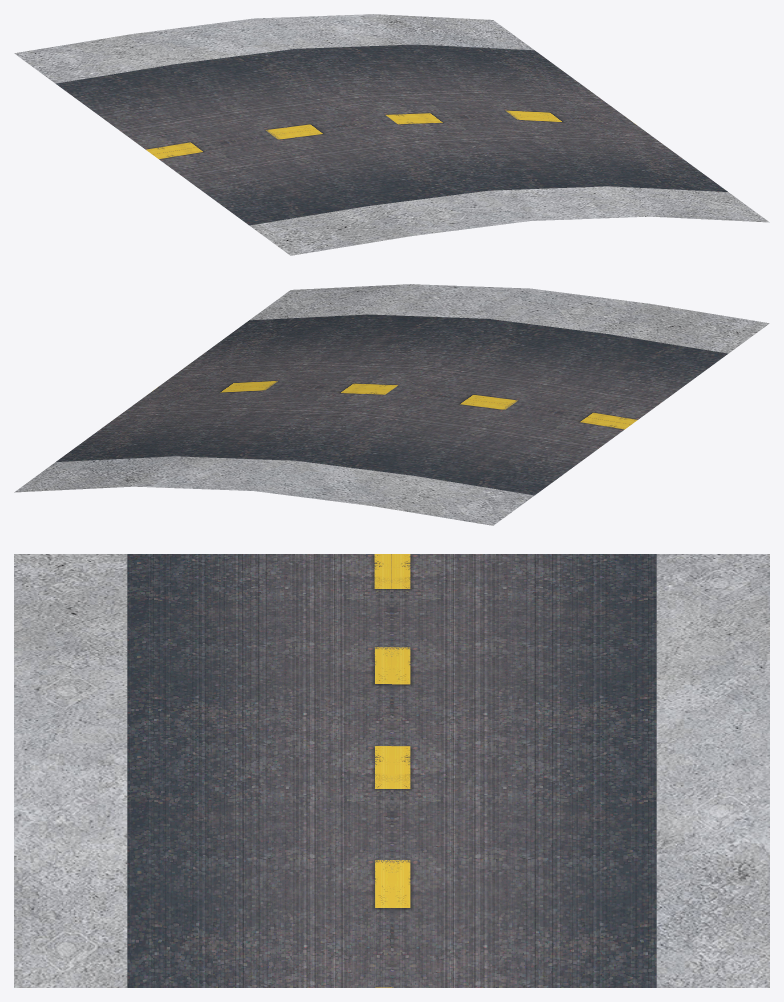
Rendered from track_ramp_dn.fbx.
3 renders of one model, top to bottom at view 1: azimuth 30°, elevation 25°; view 2: azimuth 150°, elevation 25°; view 3: azimuth 270°, elevation 25°, orthographic. The views are drawn at different scales.
Visible parts, largest first — view 1: track_ramp_down; view 2: track_ramp_down; view 3: track_ramp_down.
Part boxes in pixels (<box>): track_ramp_down: <box>14,14,769,255</box>; track_ramp_down: <box>14,284,769,525</box>; track_ramp_down: <box>14,554,769,987</box>.
Size of the model in its own units: 10 by 1.67 by 10.
Materials: 2 (2 with a texture image).
